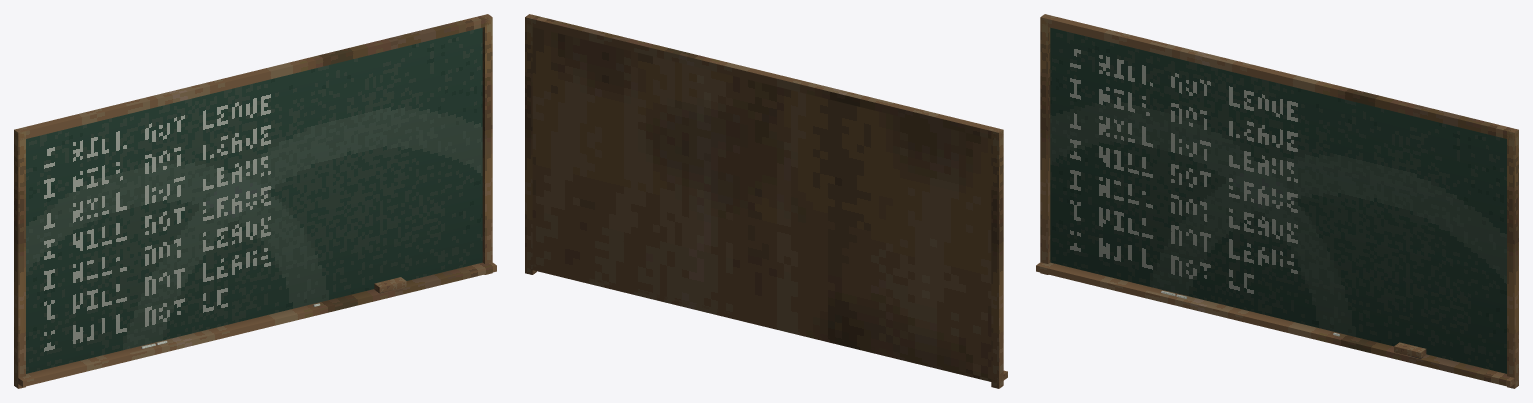
The model's file is chalkboard_written.glb.
3 renders of one model, left to right at view 1: azimuth 30°, elevation 25°; view 2: azimuth 150°, elevation 25°; view 3: azimuth 330°, elevation 25°, orthographic.
Visible parts, largest first — view 1: chalkboard_written; view 2: chalkboard_written; view 3: chalkboard_written.
Part boxes in pixels (x1=…): chalkboard_written: x1=14, y1=14, x2=496, y2=388; chalkboard_written: x1=525, y1=14, x2=1007, y2=388; chalkboard_written: x1=1036, y1=14, x2=1518, y2=388.
Size of the model in its own units: 2.48 by 1.28 by 0.08.
